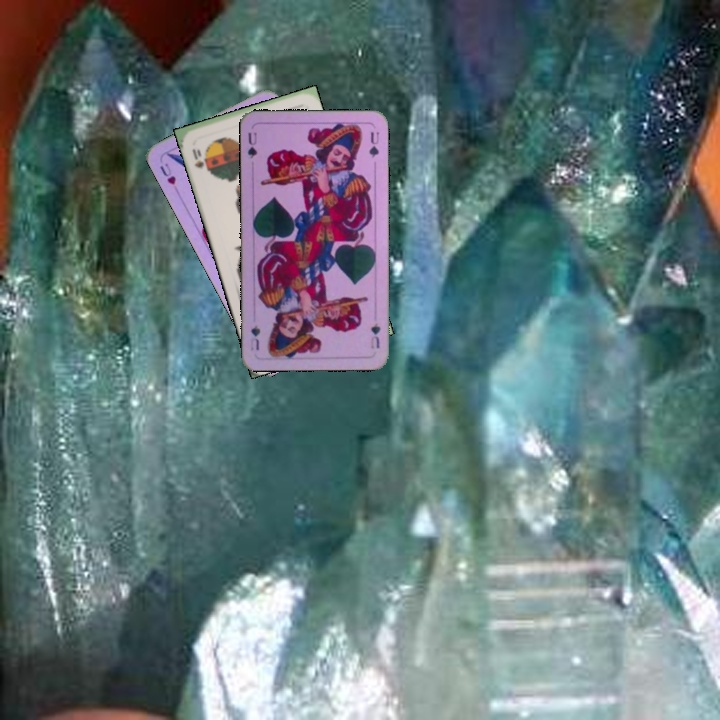GU: (243, 129, 260, 161), (367, 319, 383, 351)
HU: (156, 159, 178, 187)
SO: (188, 145, 211, 174)
